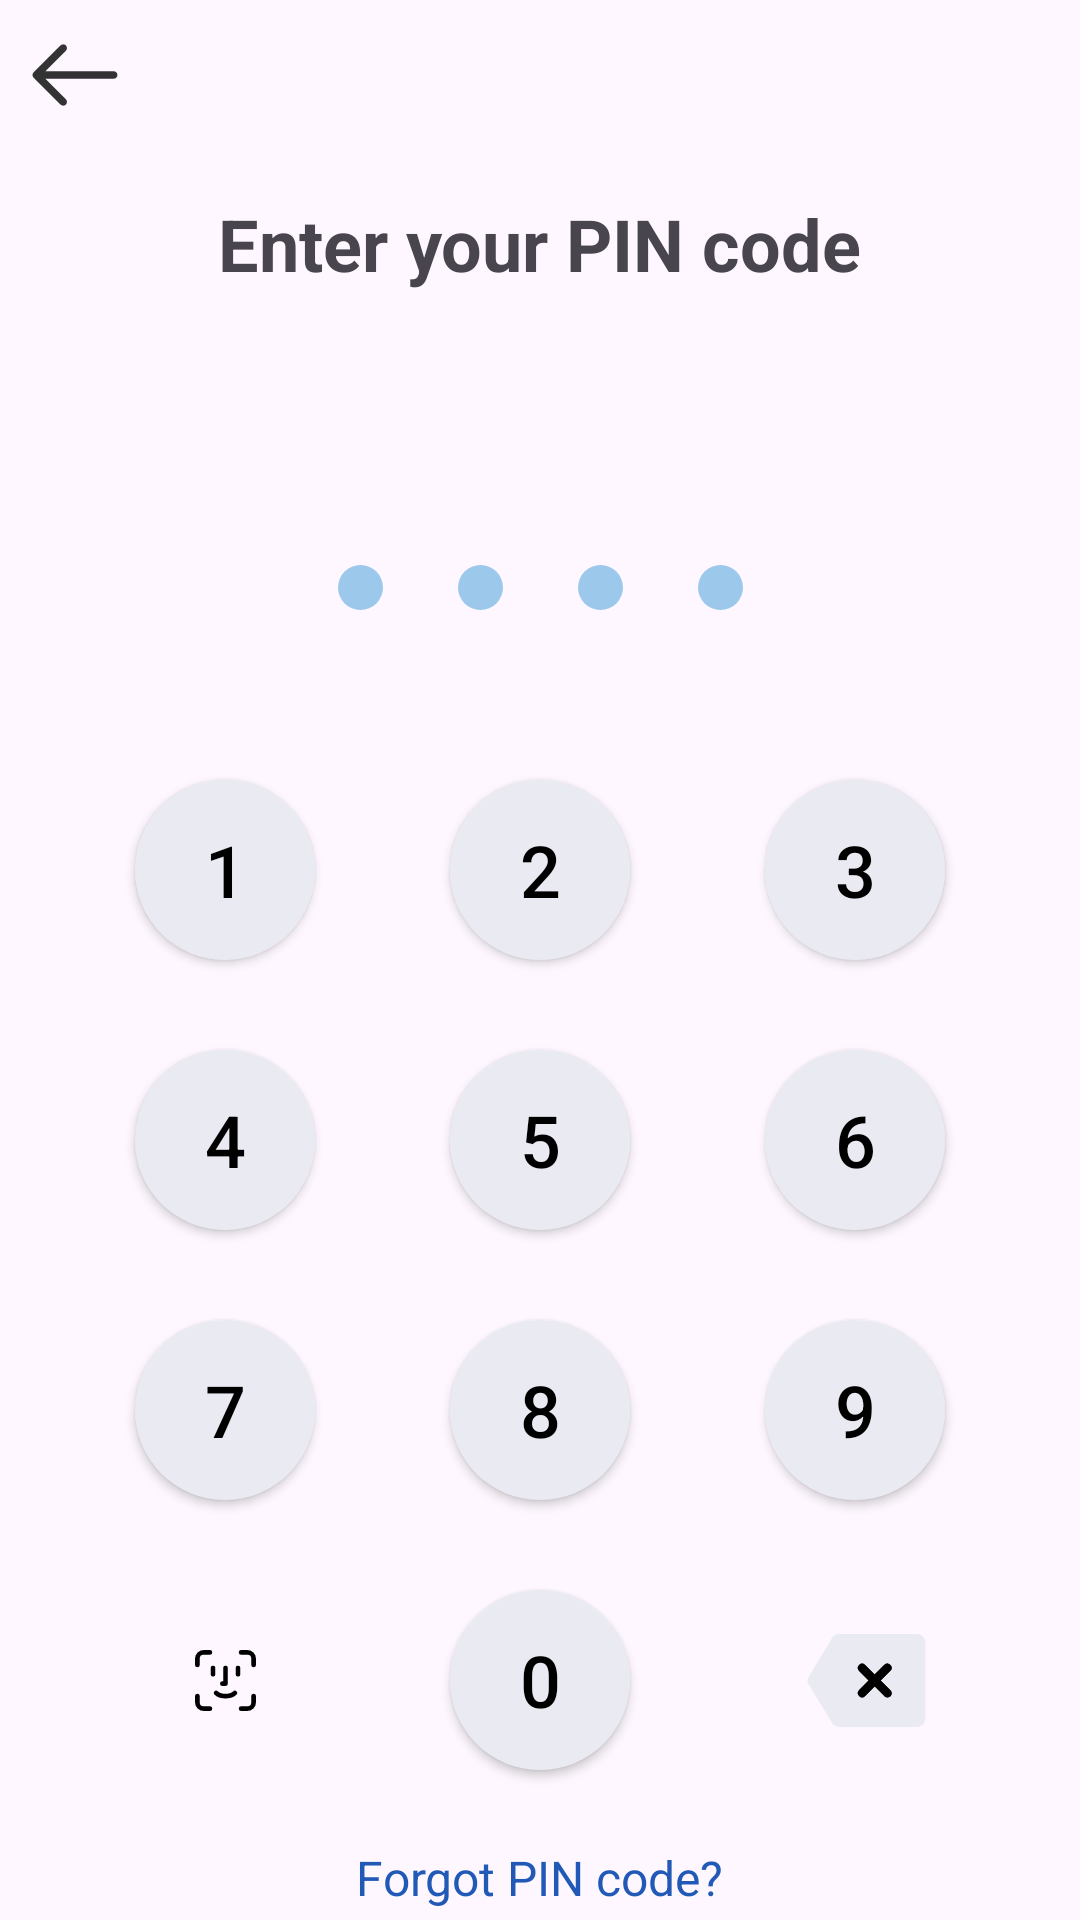

Screen size 1080*1920. Icon name, then its center in pixels as [x,y]:
arrow back: [75,75]
backspace: [874,1680]
face id: [225,1680]
